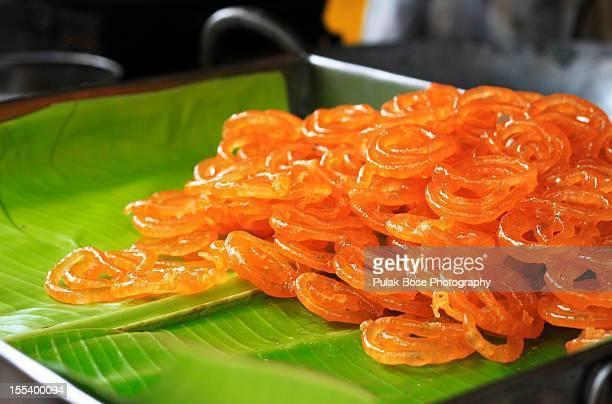jalebi: (76, 84, 612, 372)
